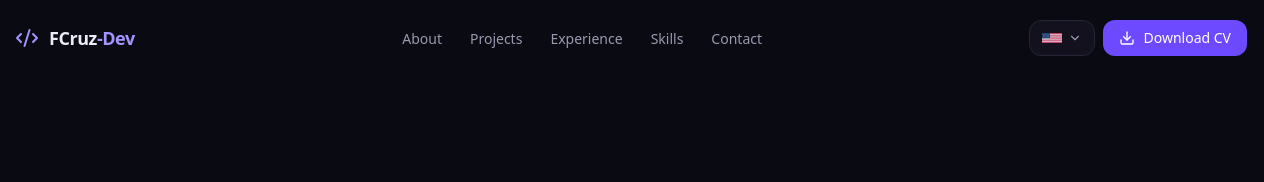
it: LanguageSwitcher › switches the whole page to the chosen language and remembers it
Click the button: (1062, 38) x1=1030 y1=20 x2=1096 y2=56
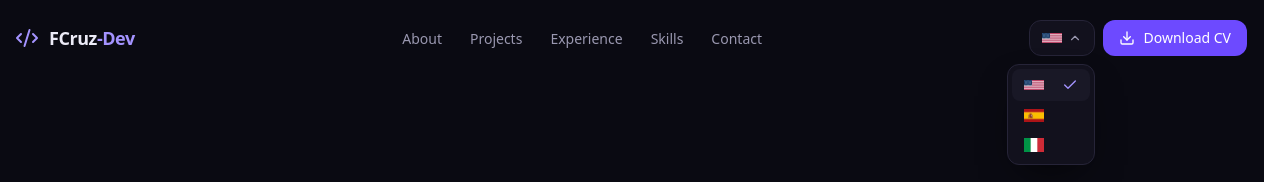
Click the 2nd menu item named "Español": (1052, 116) x1=1012 y1=101 x2=1090 y2=130
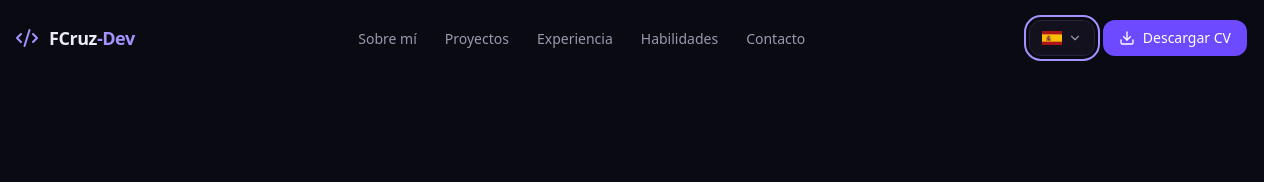
Expected: the link "Descargar CV" is shown, x1=1103 y1=20 x2=1247 y2=56
Expected: the link "Sobre mí" is shown, x1=346 y1=21 x2=429 y2=56
Expected: the menu is gone
